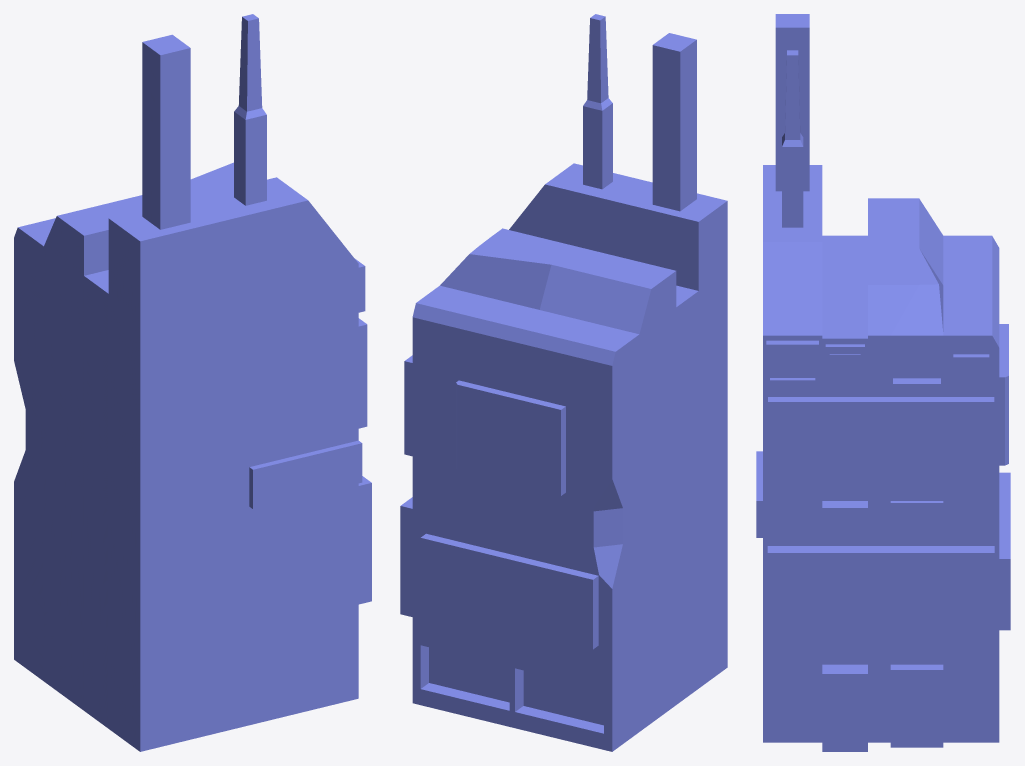
Rendered from Building2.gltf.
The picture shows the model from 3 angles, left to right: view 1: azimuth 30°, elevation 25°; view 2: azimuth 150°, elevation 25°; view 3: azimuth 270°, elevation 25°; orthographic projection. The views are drawn at different scales.
Parts seen in each view (by area): view 1: Cube; view 2: Cube; view 3: Cube.
Boxes of the visible parts, x1=… form: Cube: x1=14, y1=14, x2=371, y2=751; Cube: x1=400, y1=14, x2=727, y2=751; Cube: x1=756, y1=14, x2=1010, y2=751.
Size of the model in its own units: 3.7 by 10.24 by 3.64.
